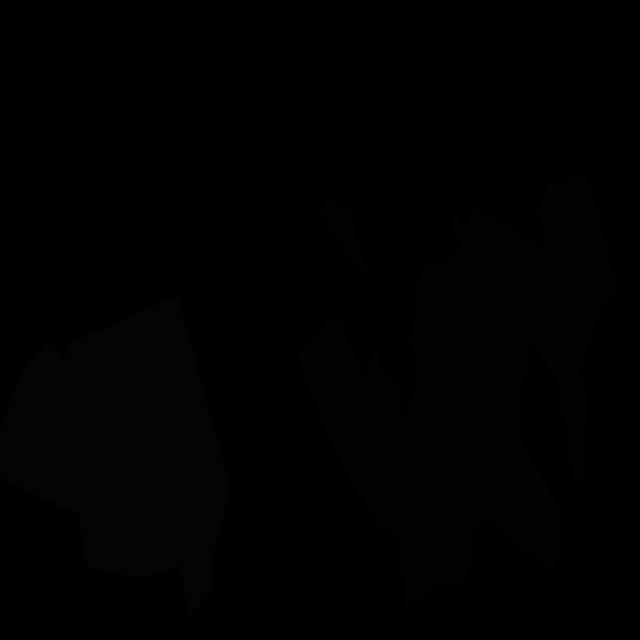cardboard: (296, 237, 589, 607), (450, 209, 601, 372), (538, 173, 620, 308), (318, 196, 370, 285)
soft_plastic: (0, 295, 230, 618)
